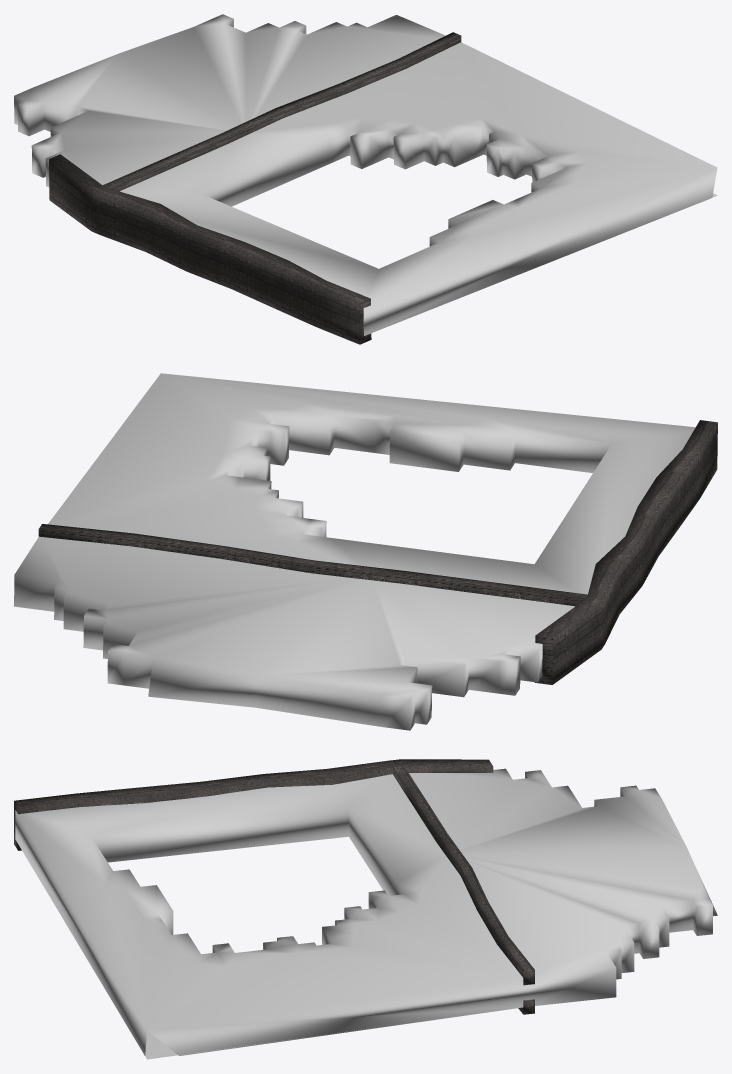
The model's file is ruins bricks_LODGroup.fbx.
3 views of the same model, one above another, from view 1: azimuth 30°, elevation 25°; view 2: azimuth 150°, elevation 25°; view 3: azimuth 270°, elevation 25° (orthographic). The views are drawn at different scales.
Parts seen in each view (by area): view 1: ruins_bricks_LOD0; view 2: ruins_bricks_LOD0; view 3: ruins_bricks_LOD0.
Boxes of the visible parts, box(x1,y1,x2,y2) form: ruins_bricks_LOD0: box(14, 14, 717, 344); ruins_bricks_LOD0: box(14, 373, 717, 730); ruins_bricks_LOD0: box(14, 759, 717, 1059).
Size of what is drawn, in the model's own units: 3.6 by 0.3271 by 4.14.
